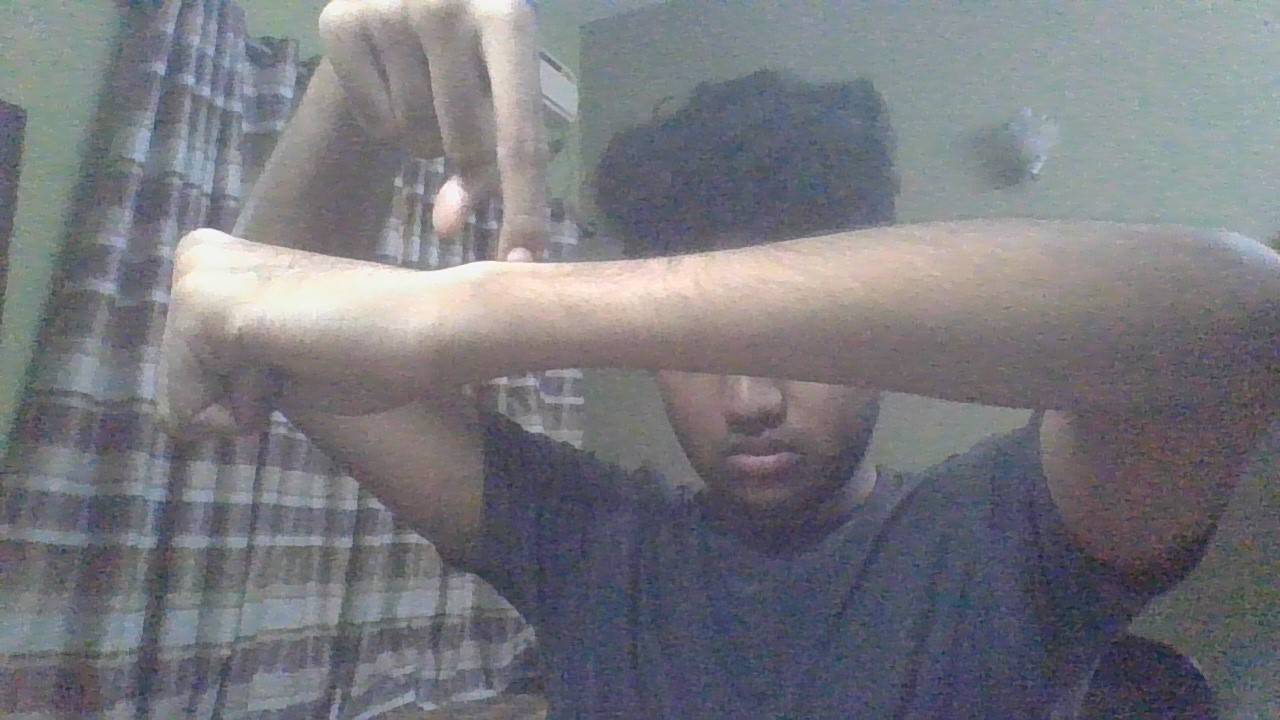Time: (151, 1, 621, 463)
